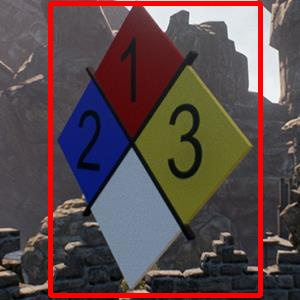nfpa: (50, 3, 260, 295)
